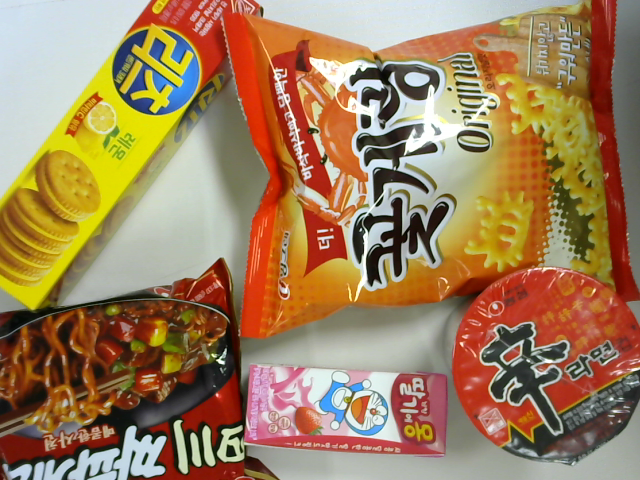Crabrang: (219, 4, 640, 319)
Ritz_Remon_96g: (3, 2, 255, 284)
Sichuan_Chapaghetti: (5, 264, 285, 480)
Sinramen_small: (449, 272, 640, 464)
Strawberry_E_Mong: (239, 362, 453, 462)
